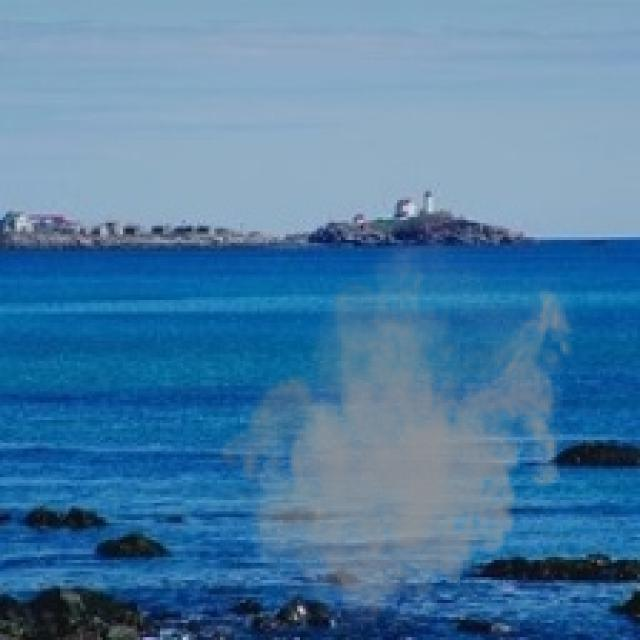smoke: (217, 220, 586, 637)
